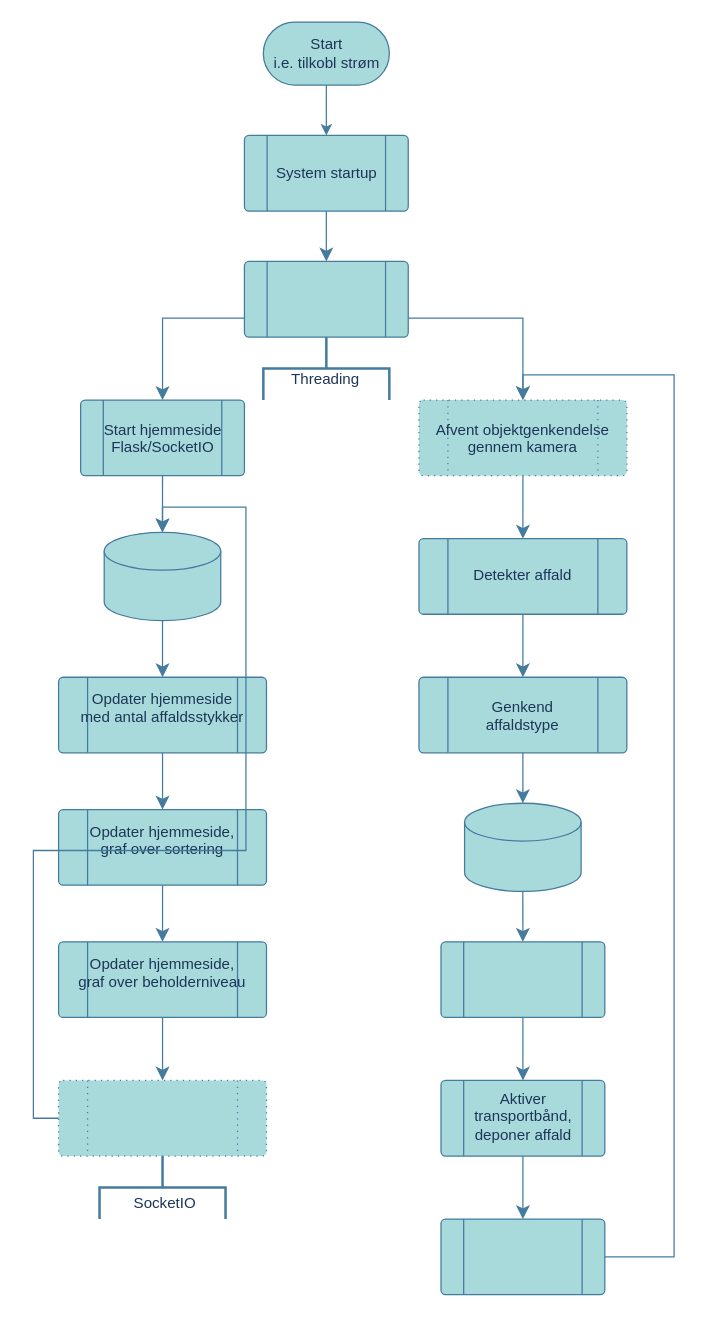
This 709x1317 diagram has some shape labels left out. Here are the shapes that lost their labels. From the top down, the centre of each, then its label:
At (x=325, y=298): "Python script startup".
At (x=162, y=576): "Aflæs DB".
At (x=522, y=846): "Tilføj til DB".
At (x=522, y=979): "Aktiver korrekt sorteringsarm".
At (x=161, y=1117): "Afvent opdatering på database".
At (x=522, y=1256): "Aflæs affalsniveau i beholder".
